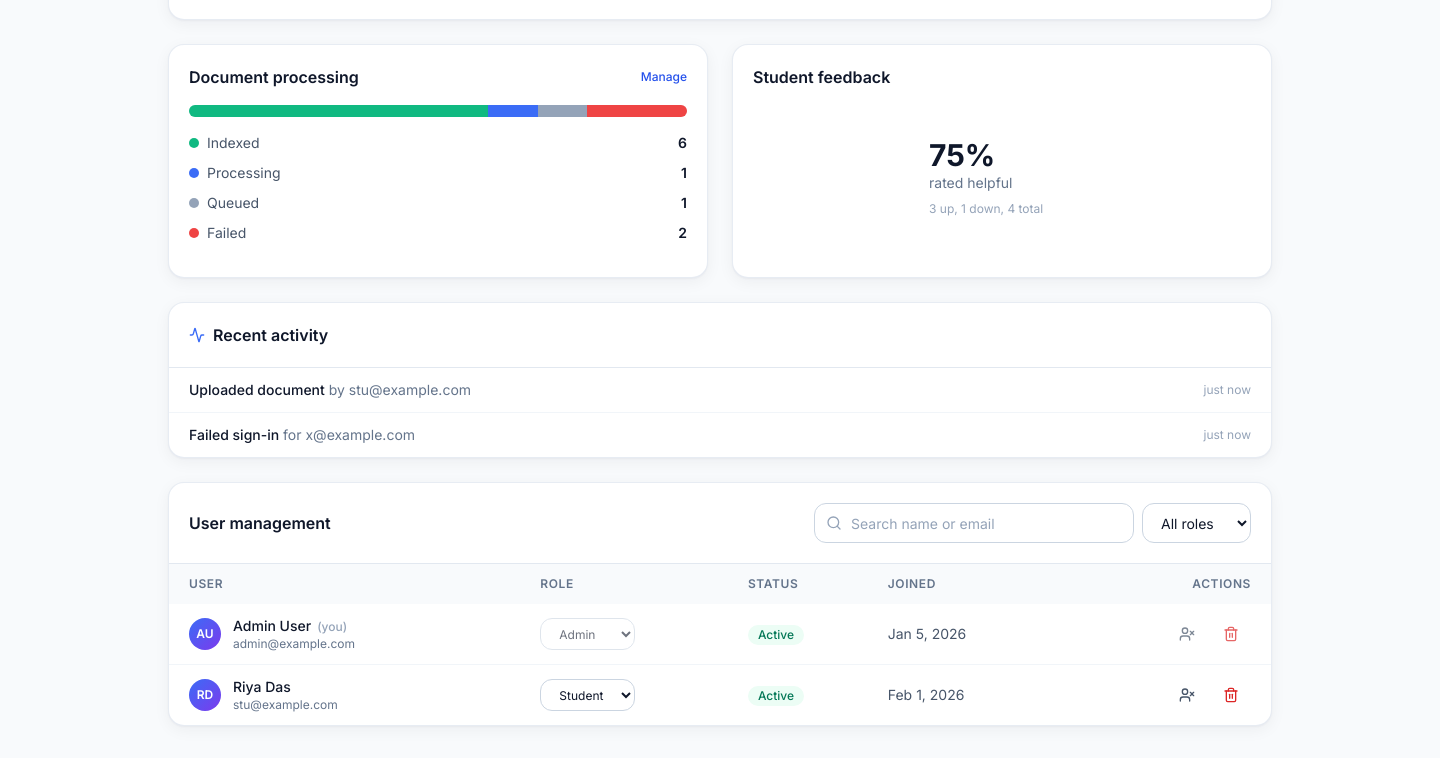
it: User management › deactivates and deletes users with confirmation, and surfaces server refusals
(page scrolled)
Step 1. Click the button named "Deactivate Riya Das" → click(1187, 695), box top-left (1167, 679), bottom-right (1207, 711)
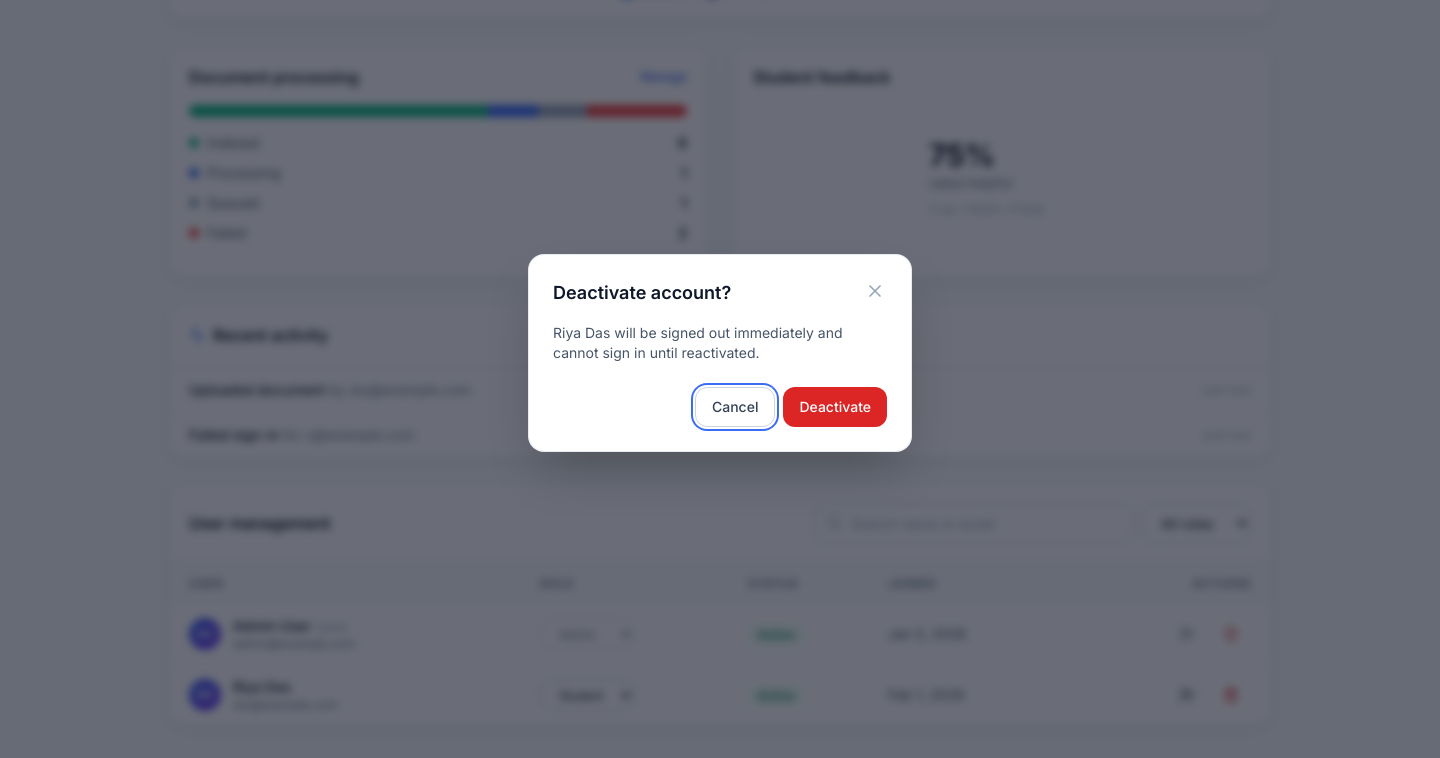
Step 2. Click the button "Deactivate" → click(835, 407), box top-left (784, 387), bottom-right (887, 427)
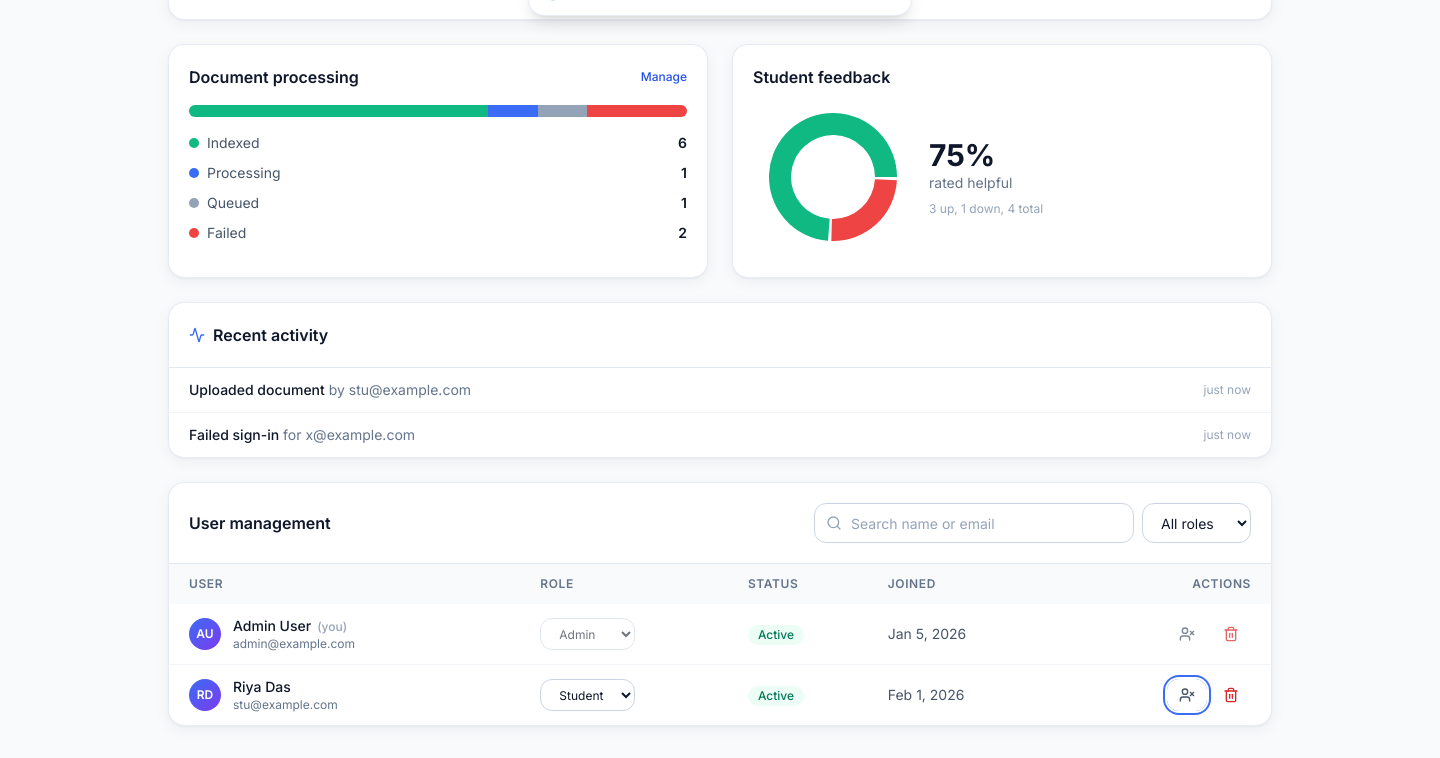
Step 3. Click the button named "Delete Riya Das" → click(1231, 695), box top-left (1211, 679), bottom-right (1251, 711)
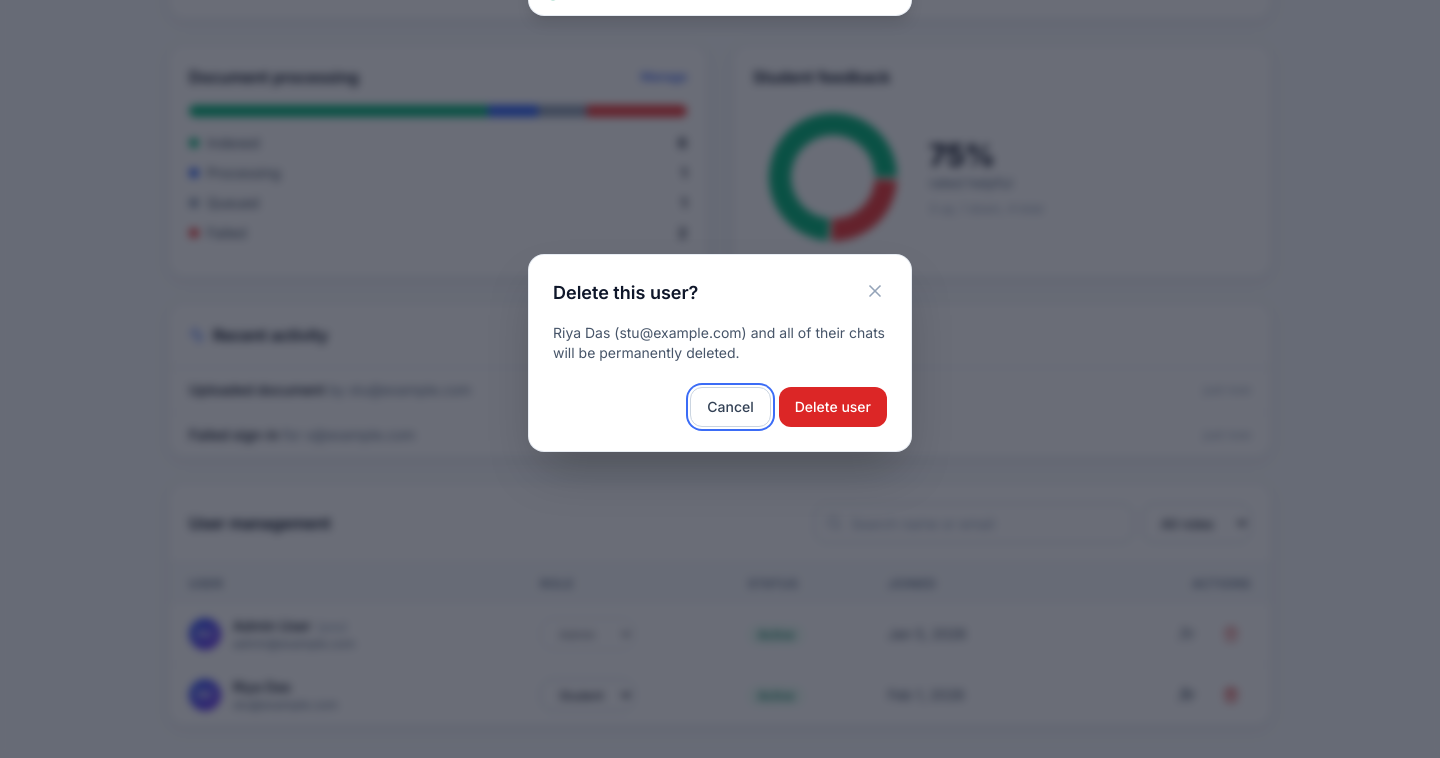
Step 4. Click the button "Delete user" → click(833, 407), box top-left (779, 387), bottom-right (887, 427)
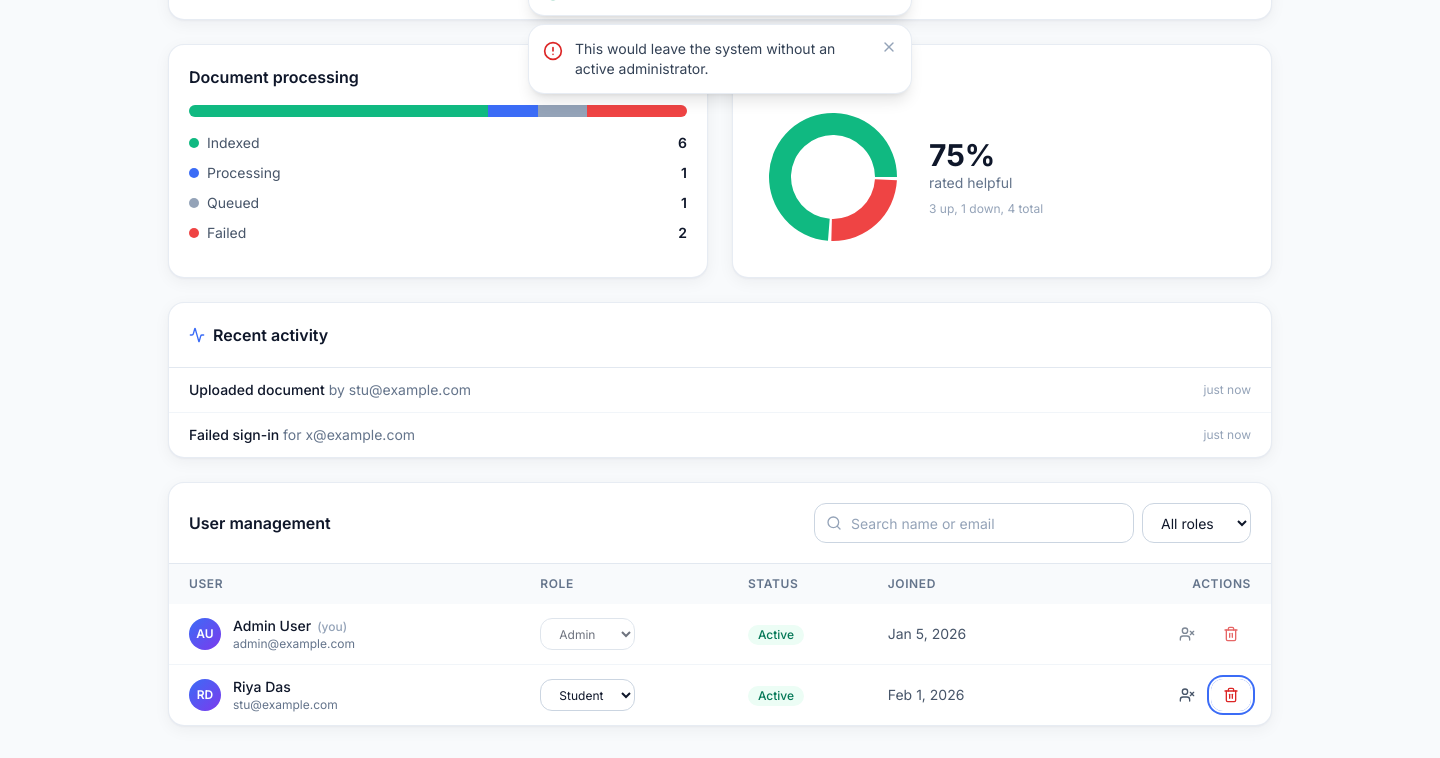
Check: the text "This would leave the system without an active administrator." is shown, box top-left (575, 39), bottom-right (869, 79)
